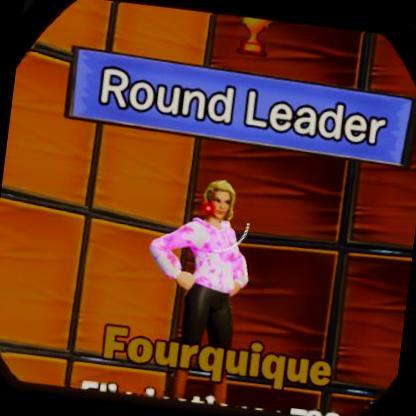person: (134, 171, 262, 366)
